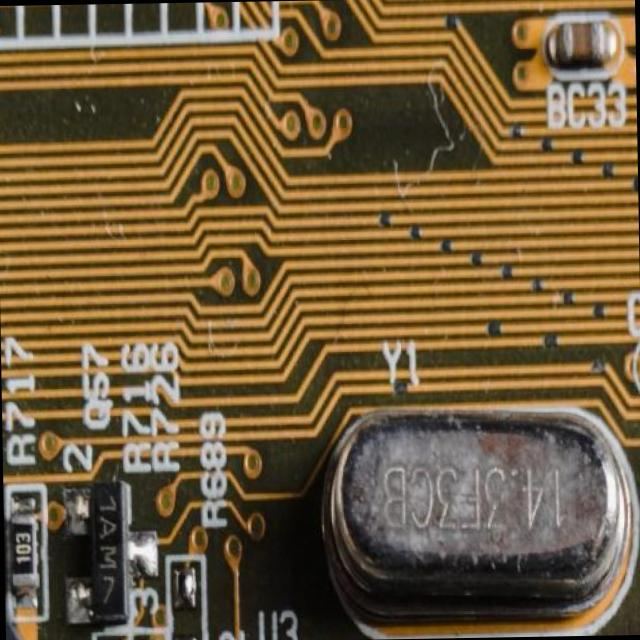capacitor: (542, 18, 617, 89)
resistor: (4, 497, 43, 604)
transistor: (55, 470, 162, 624)
